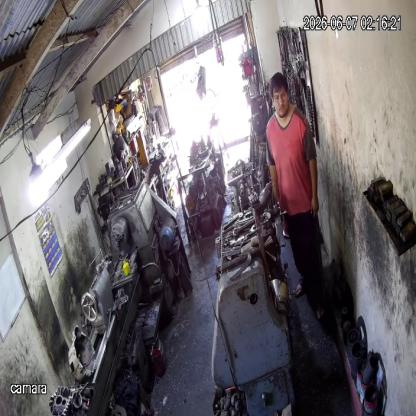sin_lentes: (272, 89, 288, 103)
